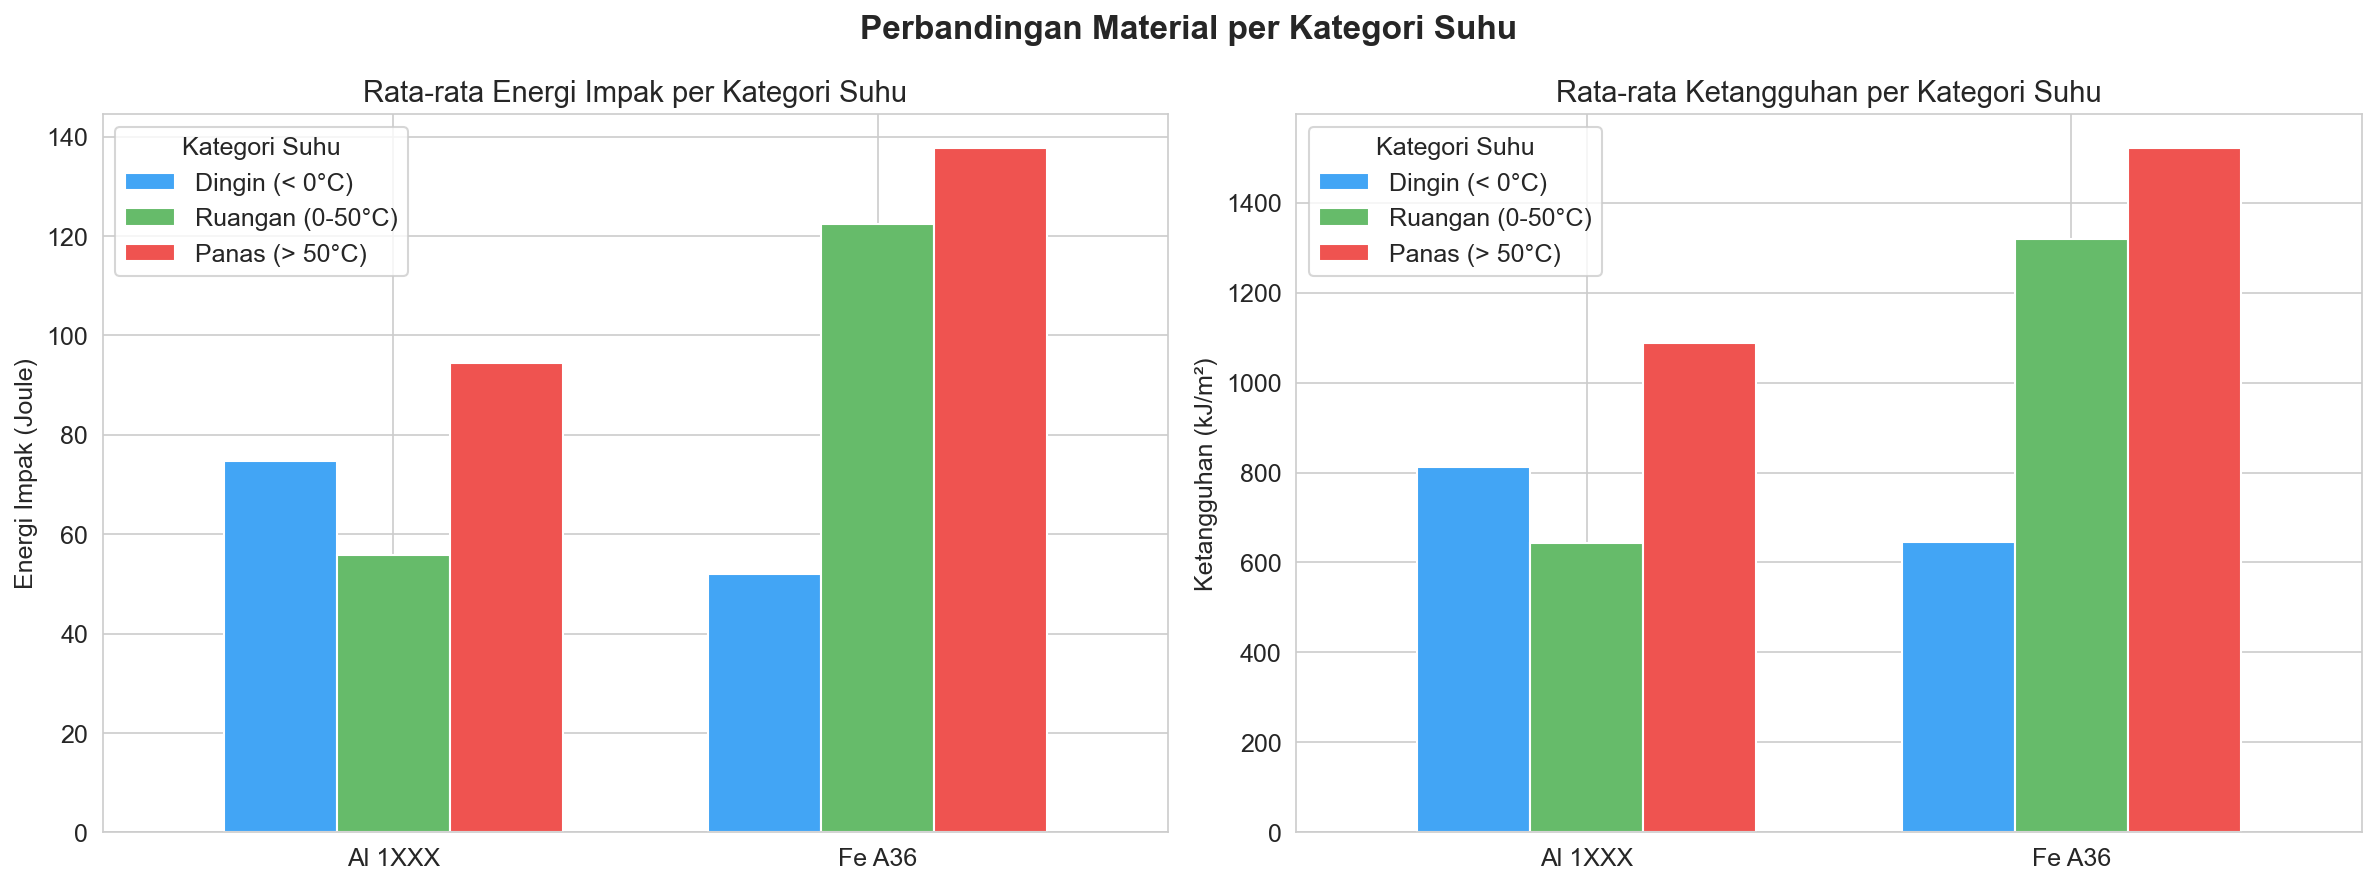

The dashboard page shown, as its layout file describes it:
{"tool":"powerbi","page":{"name":"Page 1","canvas":[1280,720],"ordinal":1},"visuals":[{"type":"barChart","box":[10,0,280,280],"z":0}]}

Visuals, with their boxes on the page's 1280x720 design canvas (x1, y1, x2, y2). These are canvas units, not pixel positions in the 2376x885 screenshot, which may show the page scaled, cropped or inside an application window:
barChart: crop(10, 0, 290, 280)
